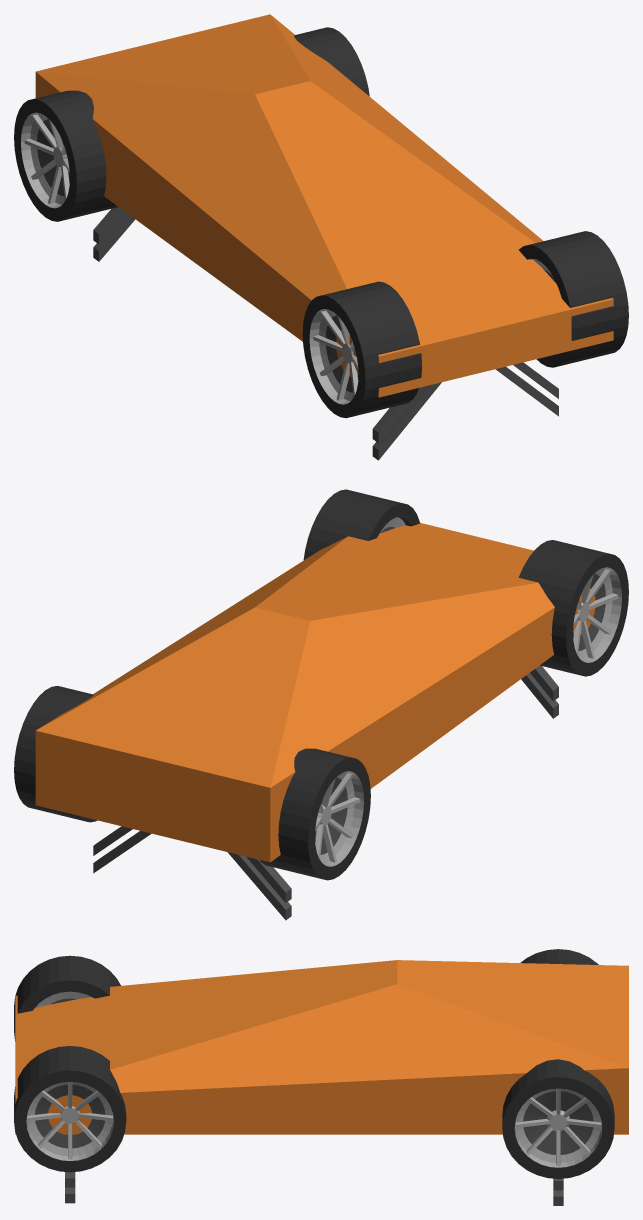
File: car.glb
The picture shows the model from 3 angles, top to bottom: view 1: azimuth 30°, elevation 25°; view 2: azimuth 150°, elevation 25°; view 3: azimuth 270°, elevation 25°; orthographic projection. The views are drawn at different scales.
Visible parts, largest first — view 1: Body, WheelFR, WheelBR, WheelFL, WheelBL, SuspensionFR, SuspensionBR, SuspensionFL; view 2: Body, WheelBR, WheelFR, WheelFL, WheelBL, SuspensionBR, SuspensionFR, SuspensionBL; view 3: Body, WheelFL, WheelBL, WheelFR, WheelBR.
Boxes of the visible parts, <box> form: Body: <box>35,14,613,397</box>; WheelFR: <box>302,281,421,418</box>; WheelBR: <box>14,90,117,221</box>; WheelFL: <box>519,231,628,367</box>; WheelBL: <box>294,27,369,96</box>; SuspensionFR: <box>372,382,441,460</box>; SuspensionBR: <box>93,207,135,261</box>; SuspensionFL: <box>495,362,558,416</box>; Body: <box>35,523,595,862</box>; WheelBR: <box>259,748,370,880</box>; WheelFR: <box>518,540,628,676</box>; WheelFL: <box>303,489,419,559</box>; WheelBL: <box>14,686,97,822</box>; SuspensionBR: <box>227,852,291,920</box>; SuspensionFR: <box>521,665,558,718</box>; SuspensionBL: <box>93,826,151,873</box>; Body: <box>15,960,628,1134</box>; WheelFL: <box>14,1046,126,1172</box>; WheelBL: <box>502,1059,614,1178</box>; WheelFR: <box>14,955,120,1041</box>; WheelBR: <box>520,949,598,964</box>.
Size of what is drawn, in the model's own units: 1.79 by 1.25 by 3.62.
